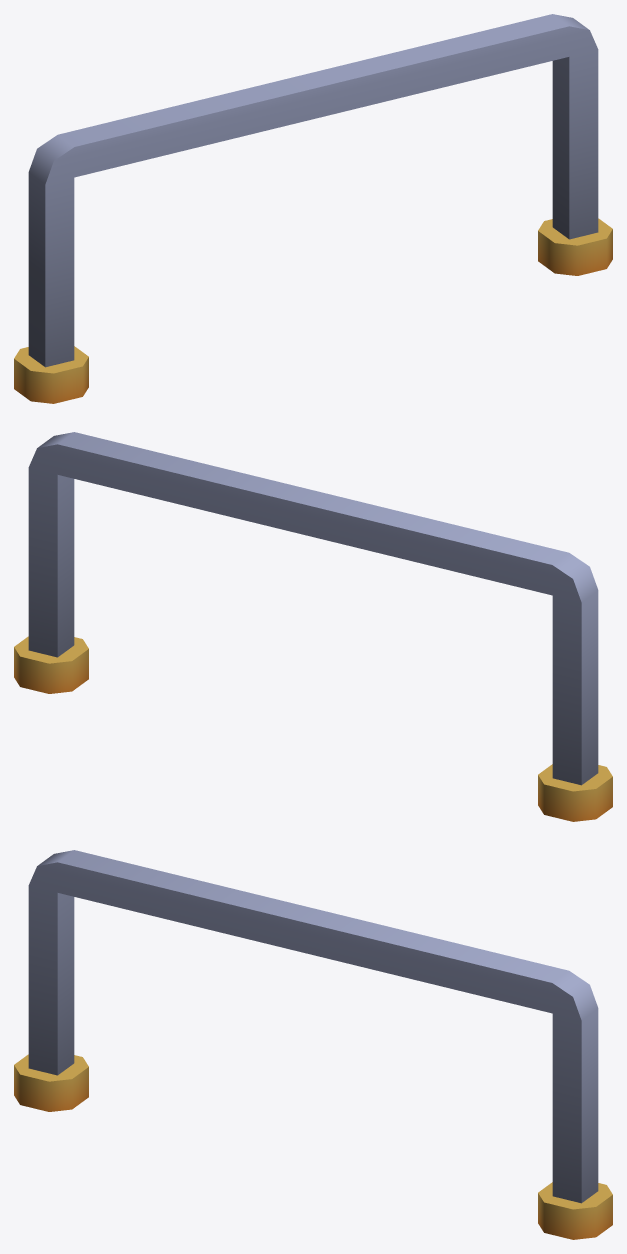
File: rail.glb
3 renders of one model, top to bottom at view 1: azimuth 30°, elevation 25°; view 2: azimuth 150°, elevation 25°; view 3: azimuth 330°, elevation 25°, orthographic.
Parts seen in each view (by area): view 1: rail; view 2: rail; view 3: rail.
Part boxes in pixels (x1,y1,x2,y2): rail: (14, 14, 612, 403); rail: (14, 432, 612, 821); rail: (14, 850, 612, 1239).
Size of the model in its own units: 1 by 0.3999 by 0.1.
